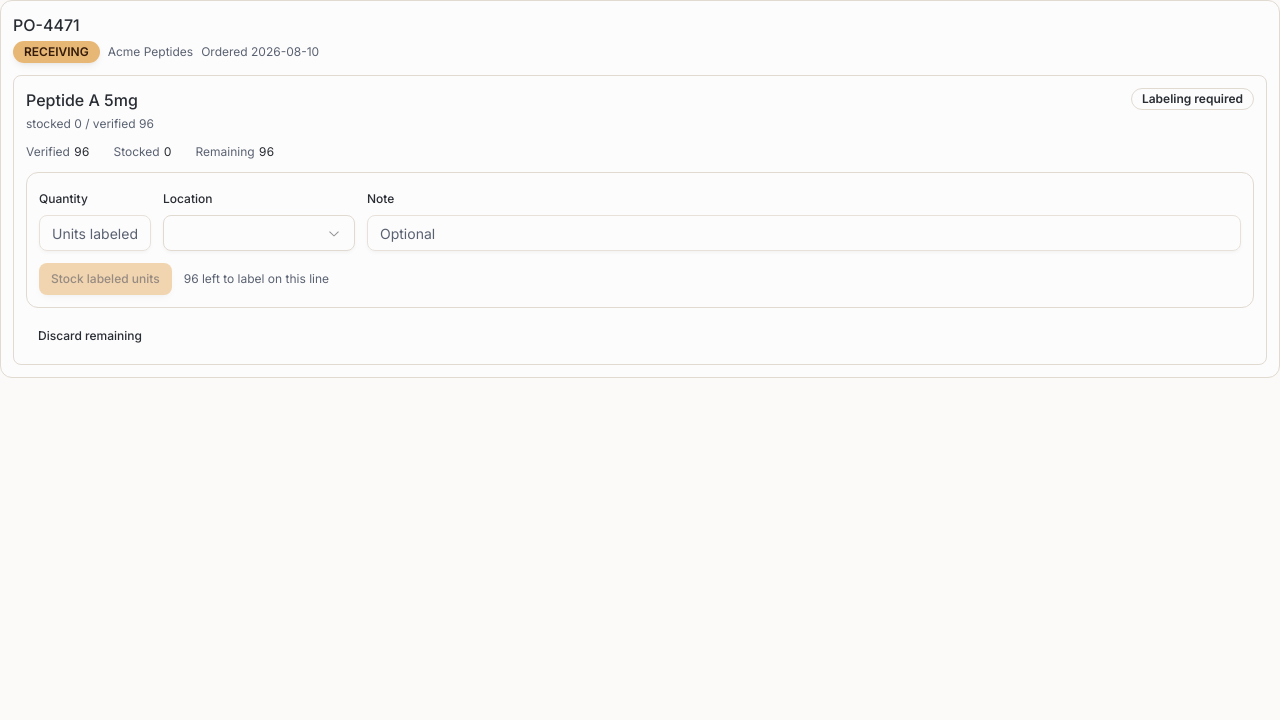
shows the server's refusal VERBATIM when the remainder is already gone
Click the button "Discard remaining": [90, 336] box [26,320,154,352]
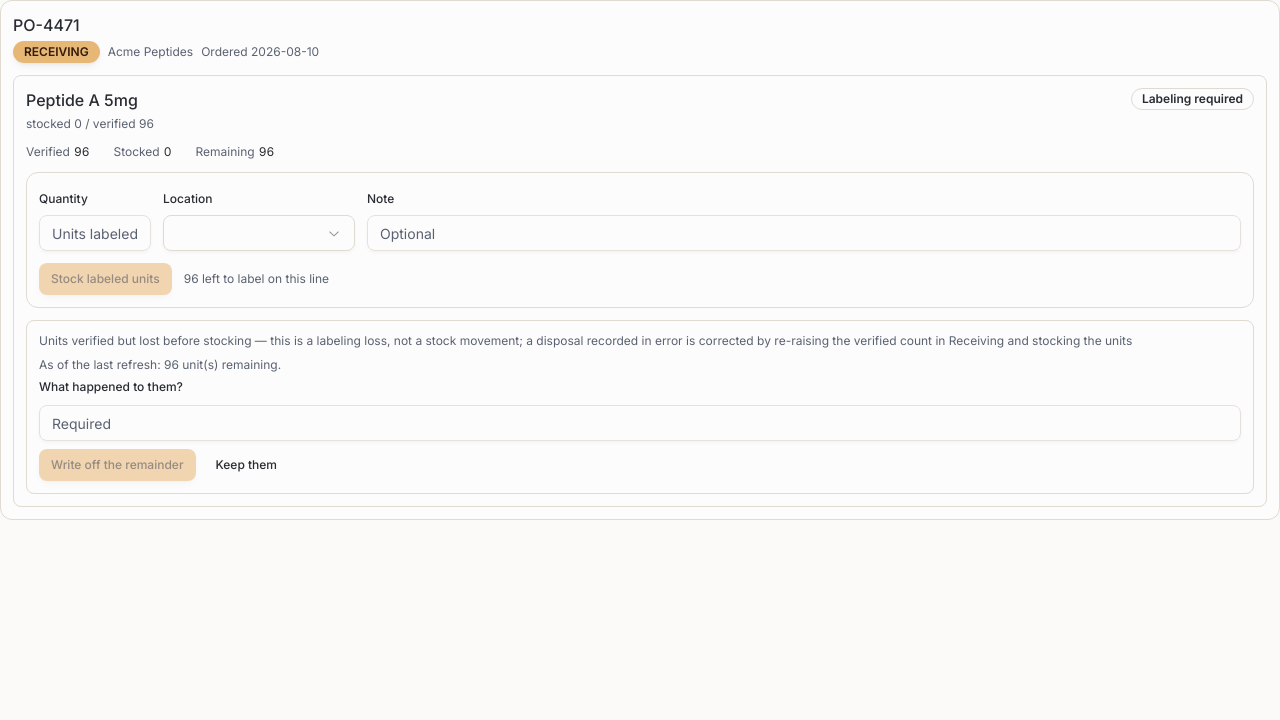
In the field with test id "discard-remaining-reason-501": [640, 423] box [39,405,1241,441], type "spilled"
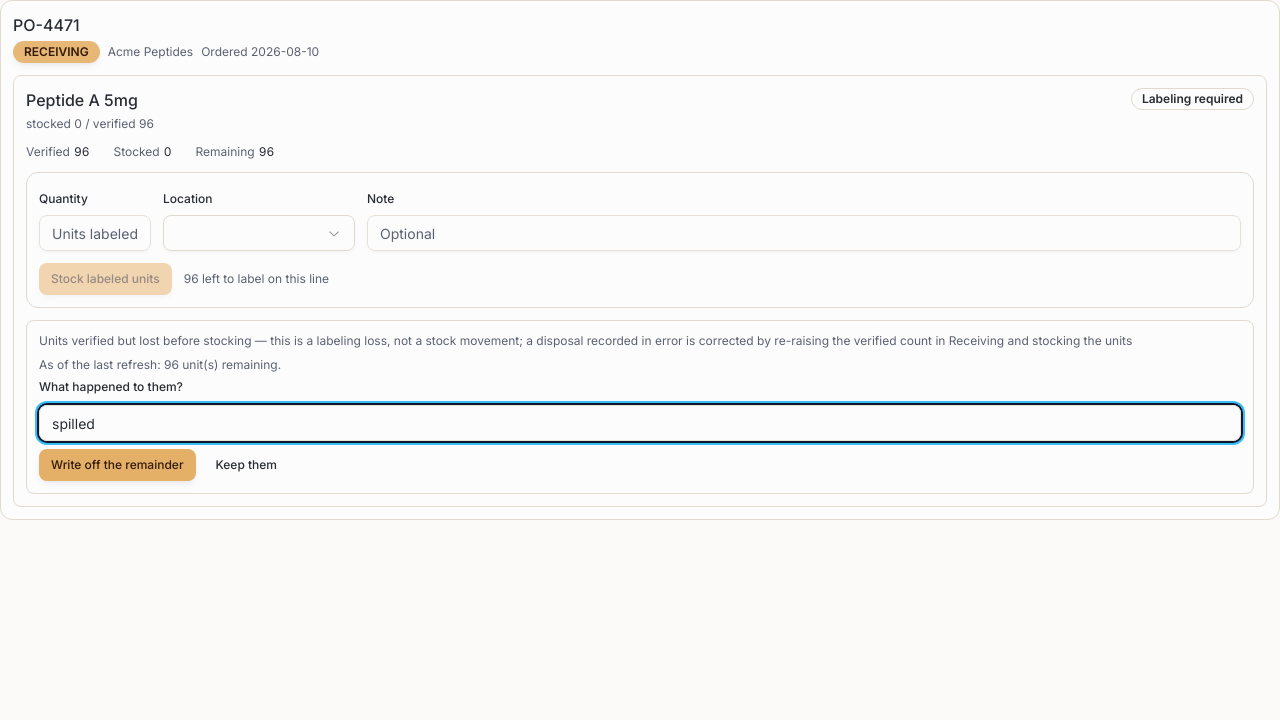
Click the button with test id "discard-remaining-confirm-501": [117, 465] box [39,449,196,481]
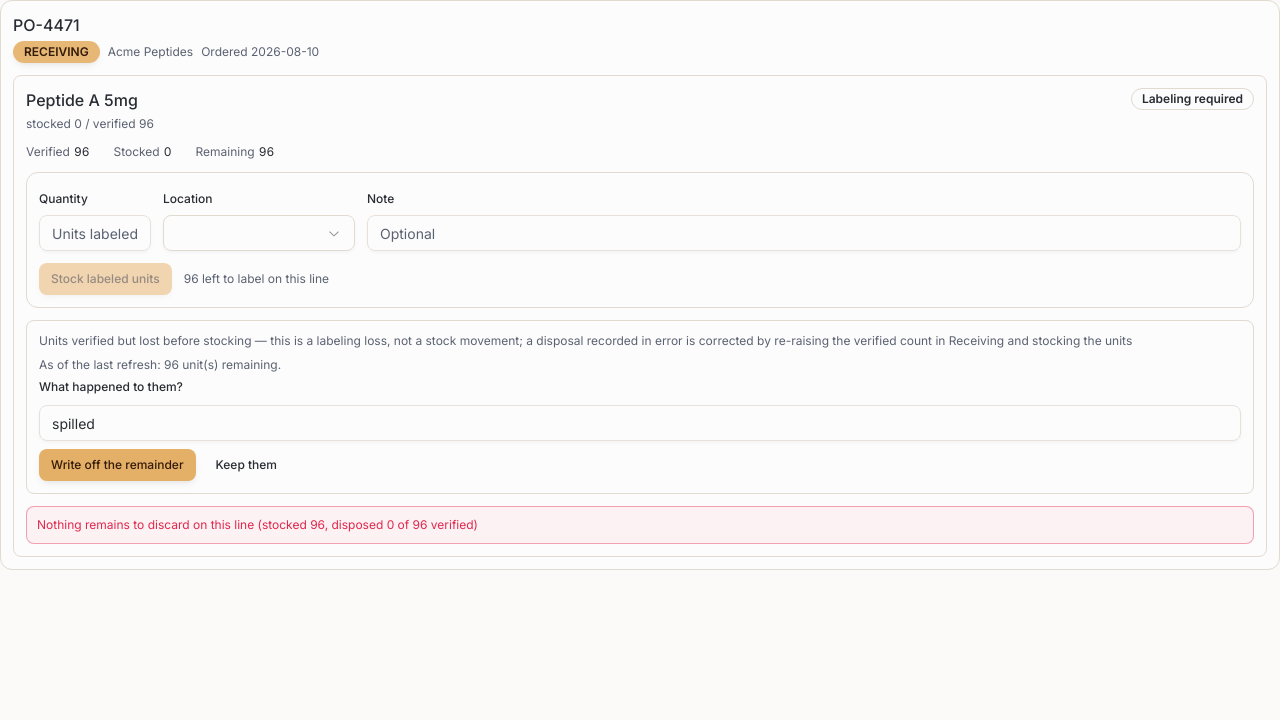
Expected: the text with test id "labeling-refusal-501" reads "Nothing remains to discard on this line (stocked 96, disposed 0 of 96 verified)", [37,517,478,532]
